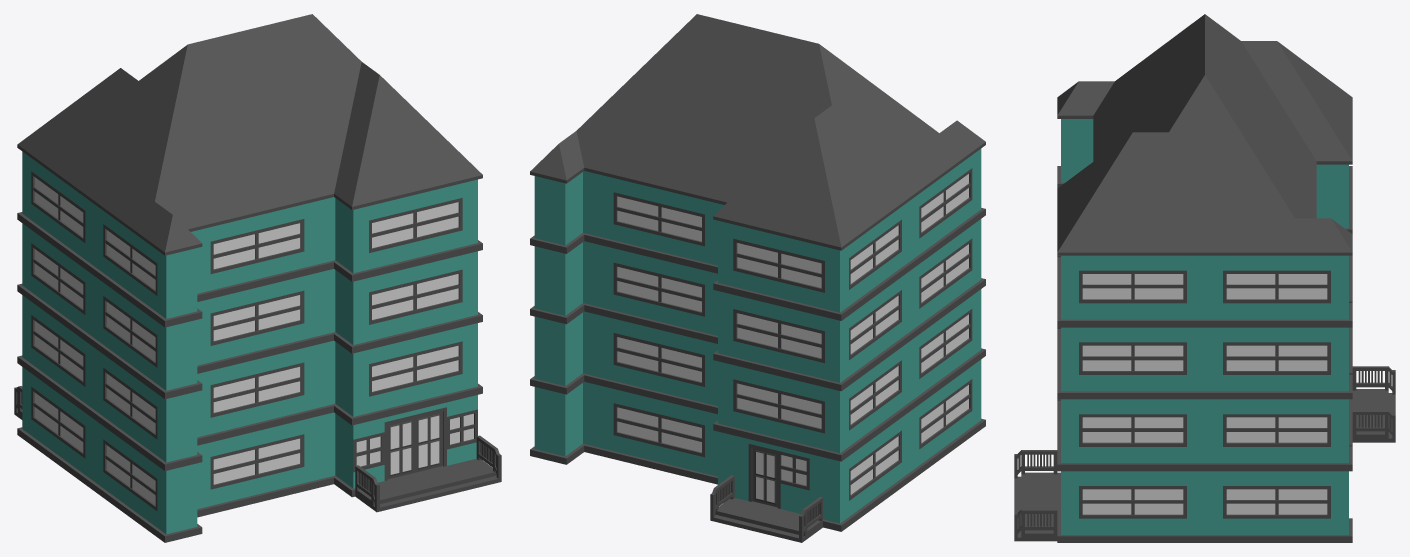
File: medium building 7.fbx
3 views of the same model, side by side, from view 1: azimuth 30°, elevation 25°; view 2: azimuth 150°, elevation 25°; view 3: azimuth 270°, elevation 25° (orthographic). The views are drawn at different scales.
Parts seen in each view (by area): view 1: building_001; view 2: building_001; view 3: building_001.
Part boxes in pixels (x1,y1,x2,y2): building_001: [14, 14, 501, 542]; building_001: [530, 14, 985, 542]; building_001: [1014, 14, 1395, 542].
Size of the model in its own units: 1020 by 1290 by 1060.
